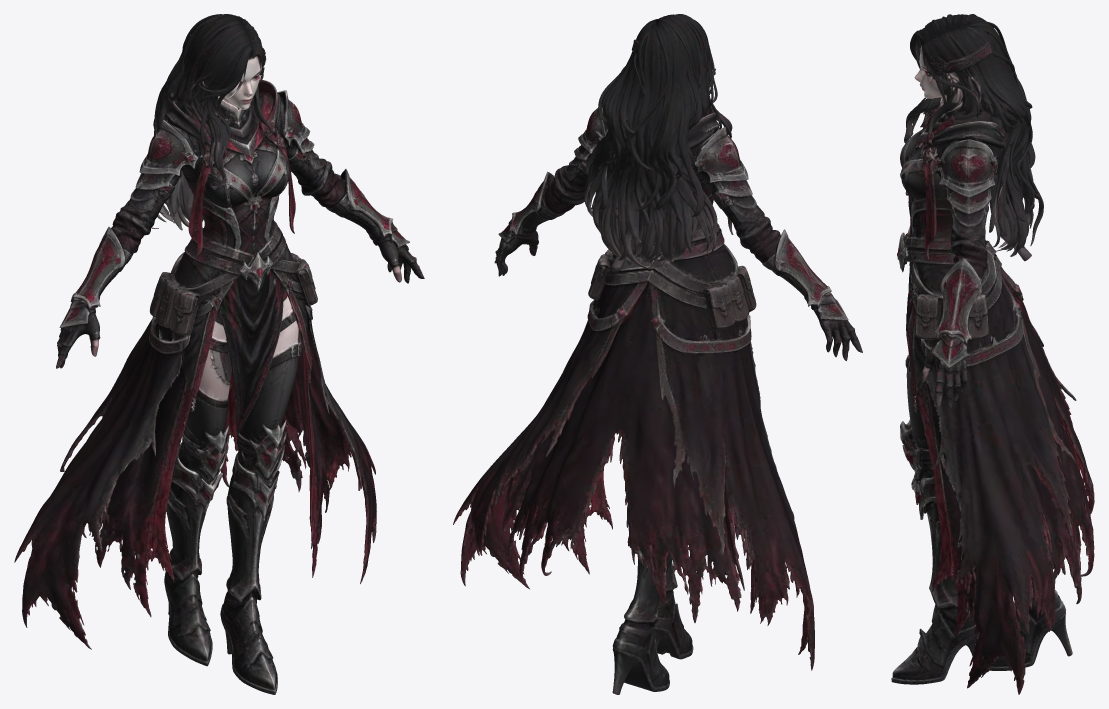
Rendered from nixyemodel.glb.
3 views of the same model, side by side, from view 1: azimuth 30°, elevation 25°; view 2: azimuth 150°, elevation 25°; view 3: azimuth 270°, elevation 25° (orthographic).
Size of the model in its own units: 1.12 by 1.9 by 0.5307.
1 material, 1 textured.
